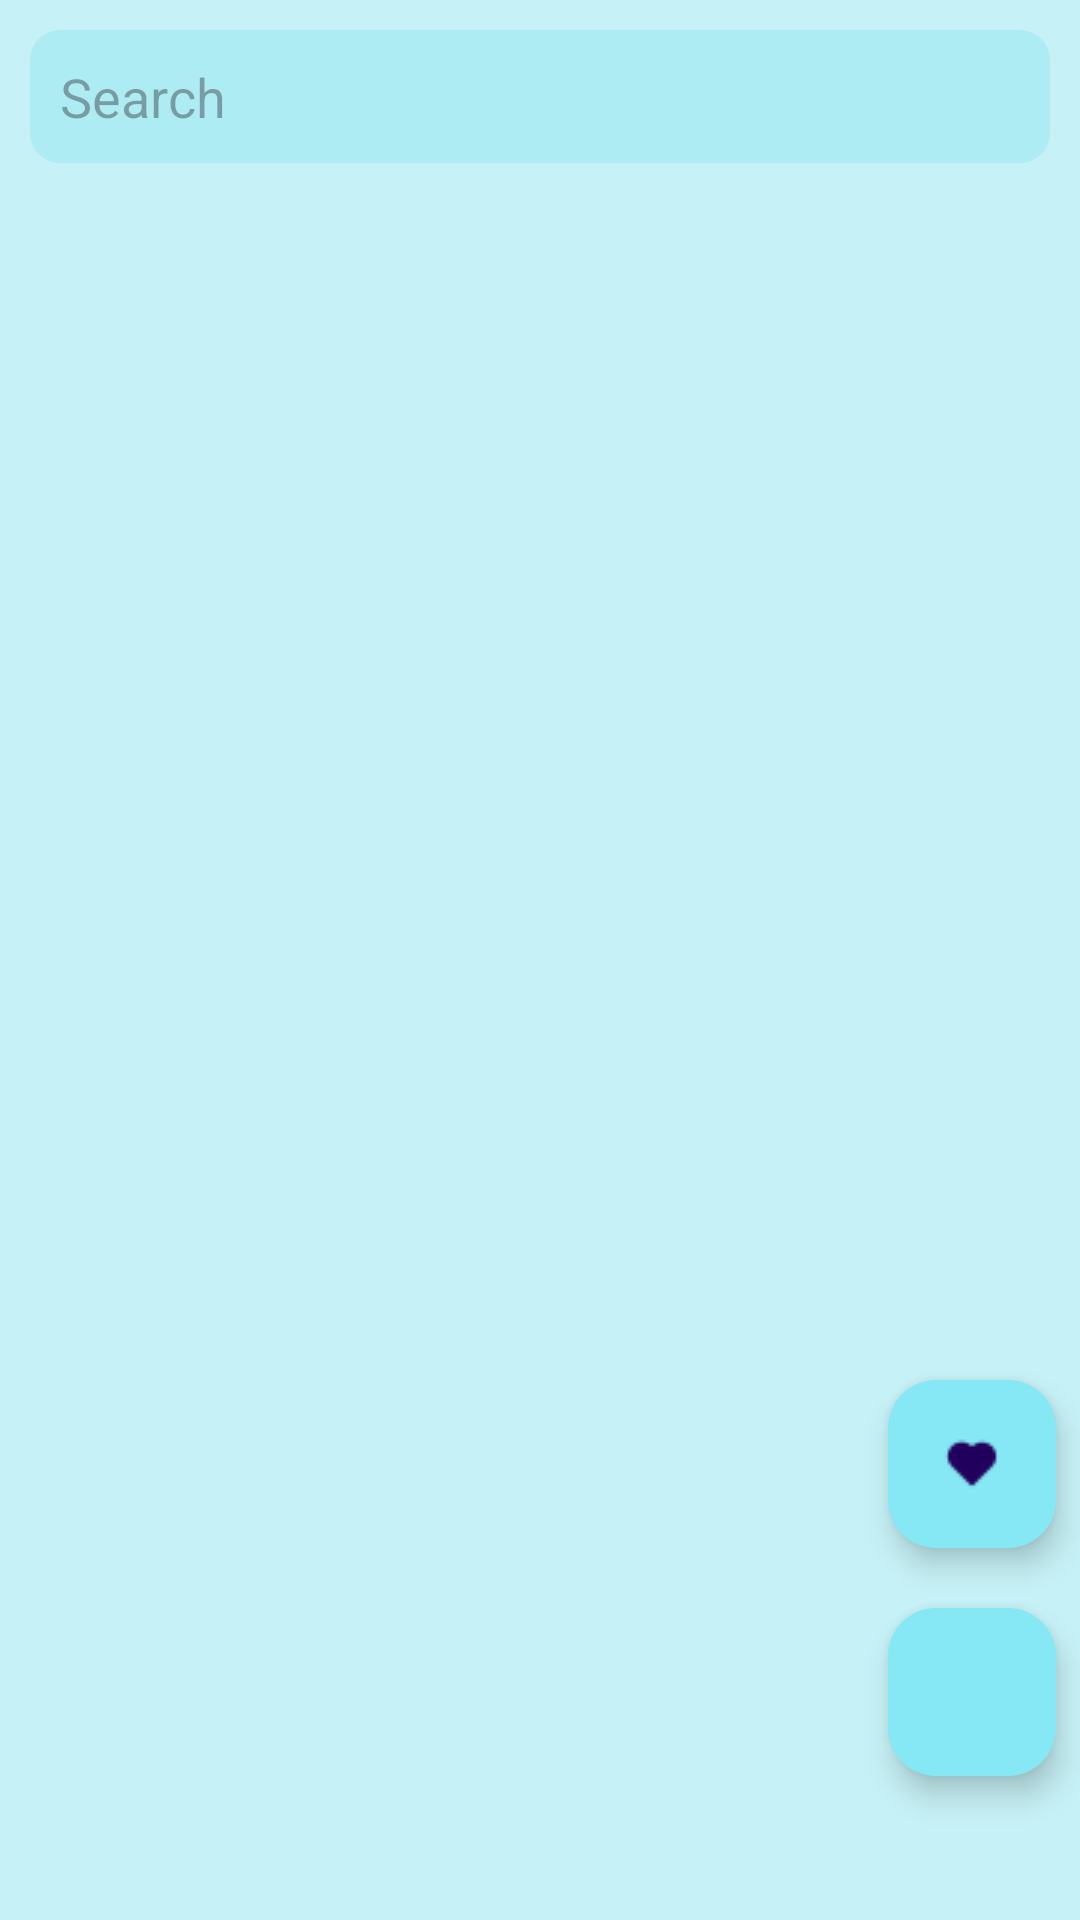

Locate icon controls on the screen. Image size 1080px×1920px, boxes as [x1=x1, y1=y1, x2=x2, y2=y2].
hearth: [x1=888, y1=1380, x2=1056, y2=1548]
